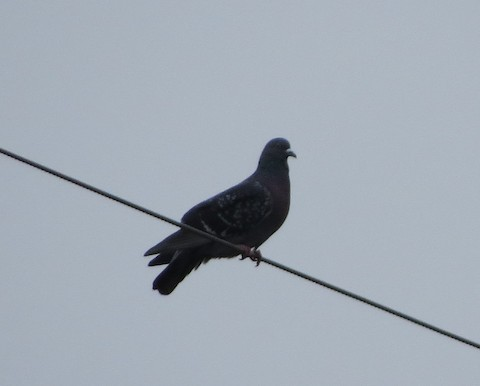pigeon: (139, 134, 311, 299)
